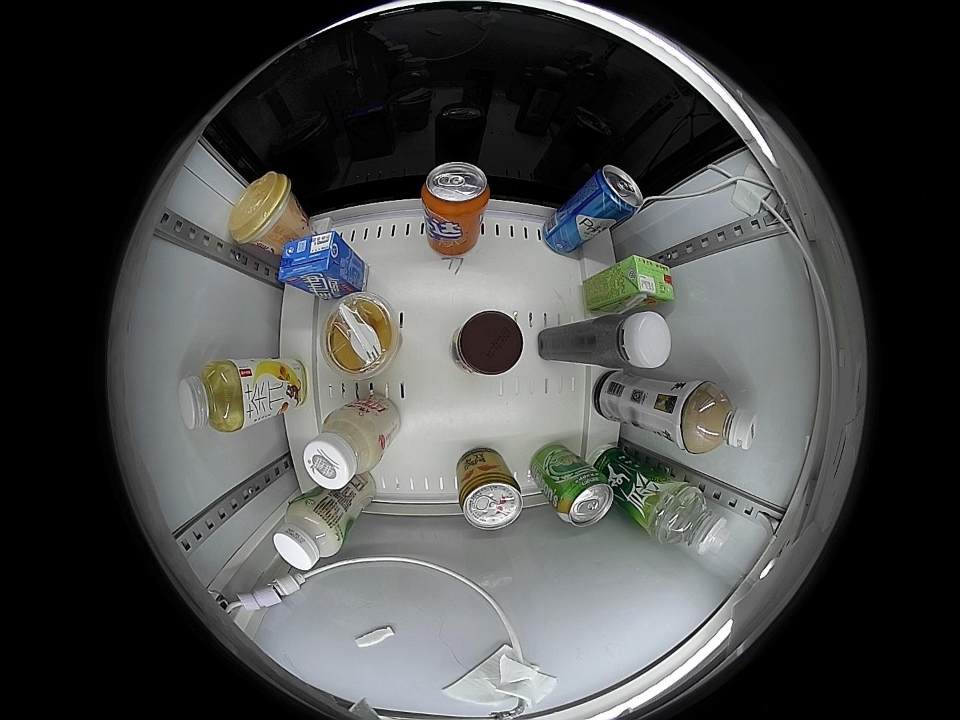chapai2: (178, 359, 247, 434)
fenda: (422, 162, 491, 220)
hongniu2: (457, 463, 523, 530)
jianjiao: (655, 485, 730, 555)
lujikafei: (451, 309, 524, 378)
qingdaowangzi-2: (587, 165, 643, 220)
quchenshixiangcao: (554, 471, 614, 528)
wanglaoji: (619, 254, 675, 307)
weitanai: (278, 231, 348, 289)
weiweidounai: (303, 408, 381, 491)
wuhounaicha: (682, 381, 758, 454)
xianguolao: (321, 293, 400, 379)
youlemei: (229, 172, 298, 248)
yousuanru: (273, 499, 344, 571)
youyanggudong: (601, 310, 673, 370)
